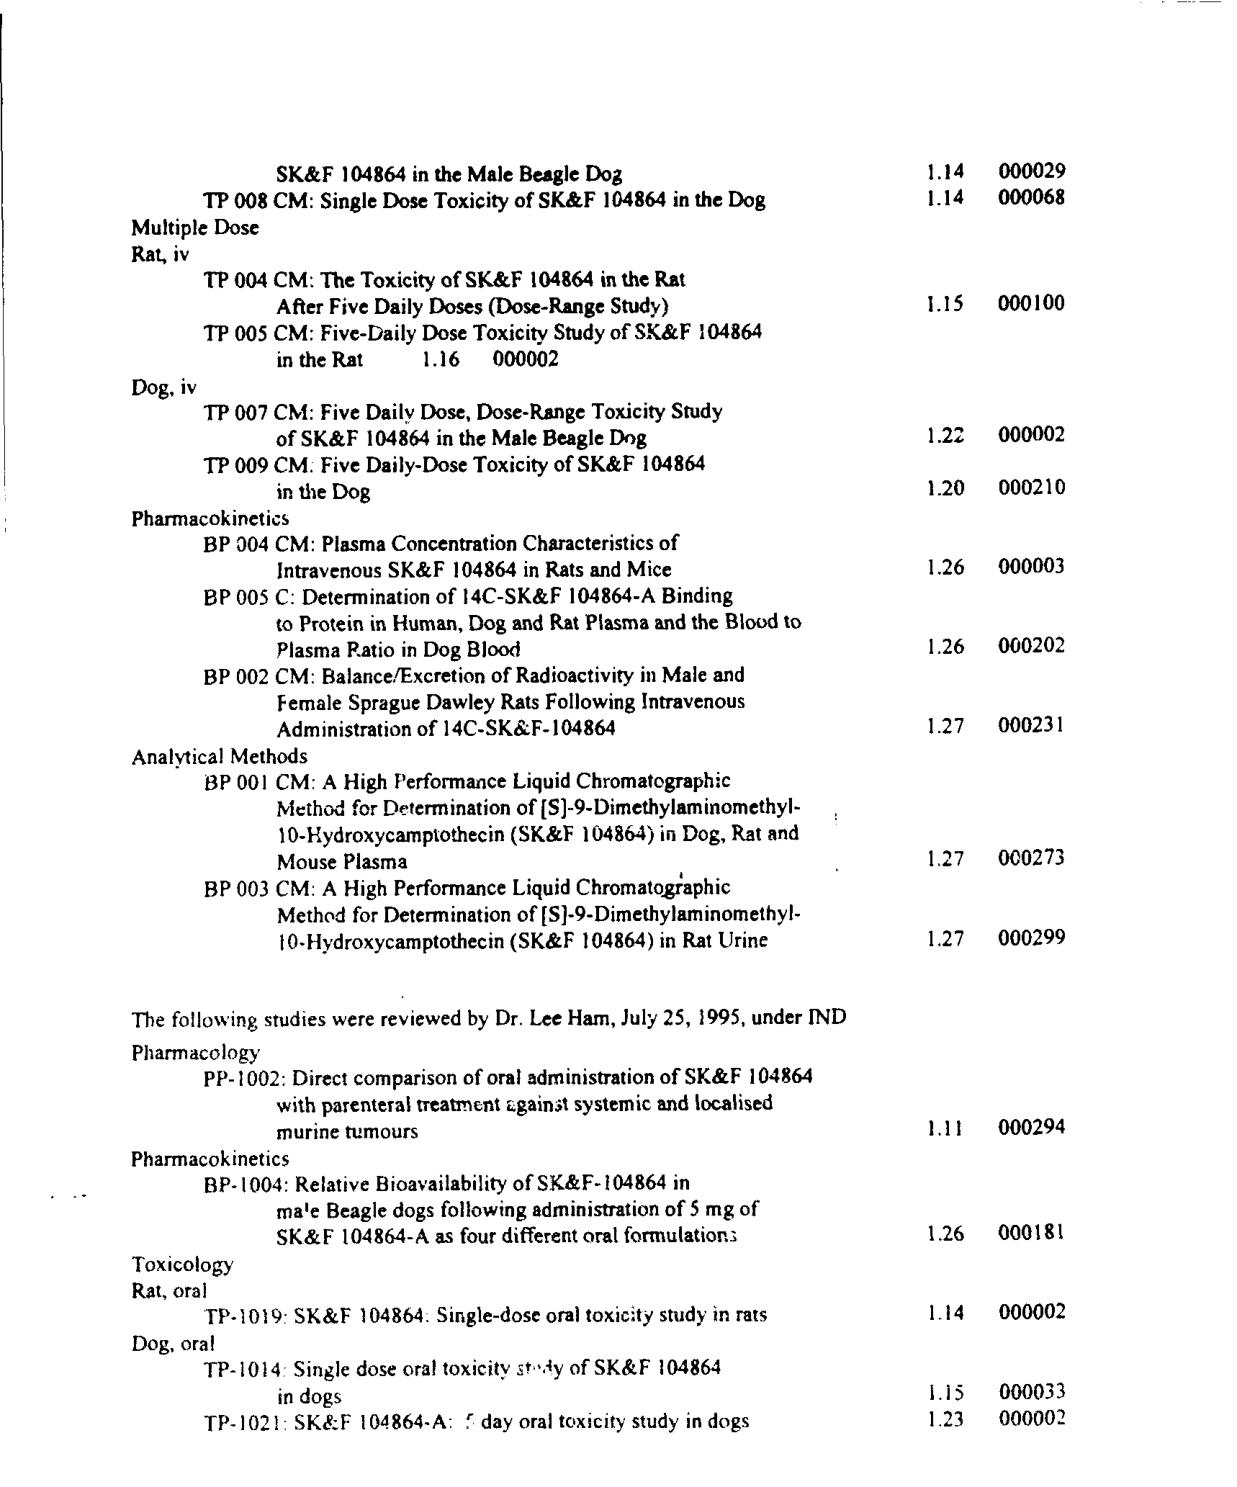nolines: (126, 216, 1072, 1440)
